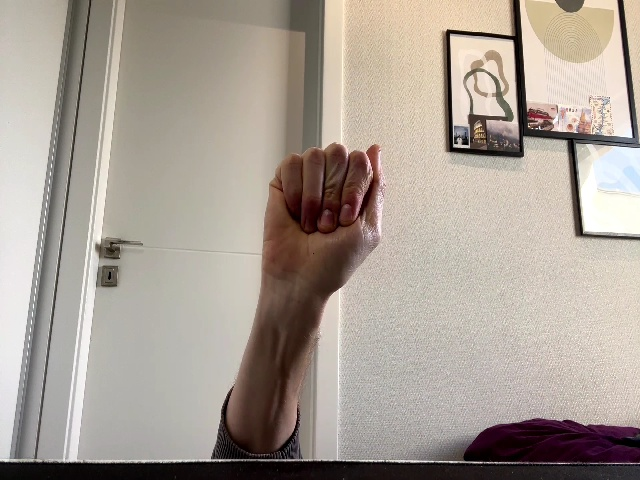A: (261, 141, 387, 286)
